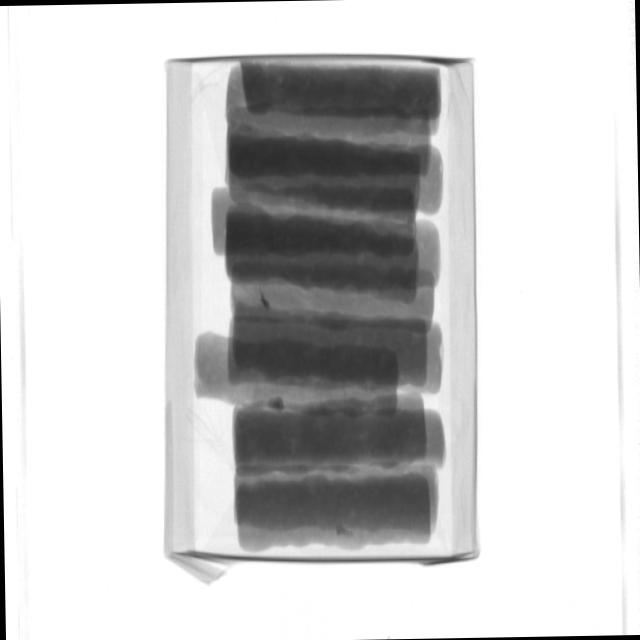ym: (269, 397, 286, 412), (338, 525, 356, 537), (263, 293, 274, 310)
